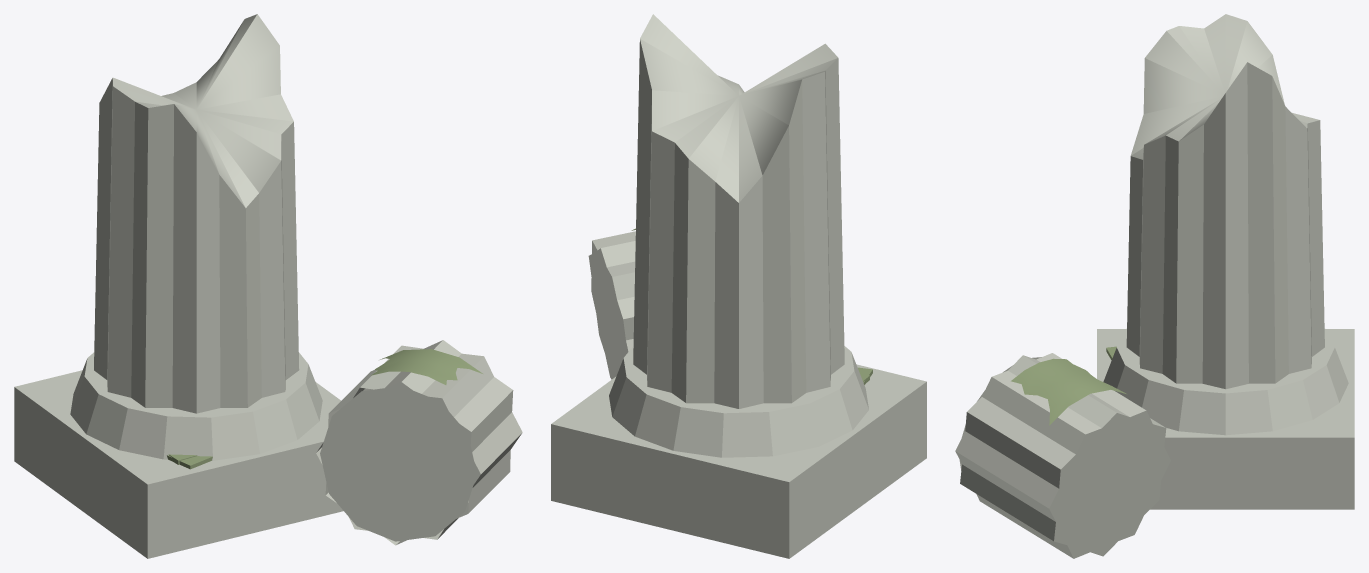
The model's file is ruin_column_broken.glb.
3 views of the same model, side by side, from view 1: azimuth 30°, elevation 25°; view 2: azimuth 150°, elevation 25°; view 3: azimuth 270°, elevation 25° (orthographic). The views are drawn at different scales.
Parts seen in each view (by area): view 1: ruin_column_broken; view 2: ruin_column_broken; view 3: ruin_column_broken.
Part boxes in pixels (x1,y1,x2,y2): ruin_column_broken: [14, 14, 522, 558]; ruin_column_broken: [551, 14, 926, 558]; ruin_column_broken: [955, 14, 1354, 558].
Bounding box in the file's own units: 1.97 × 2.48 × 2.01.
